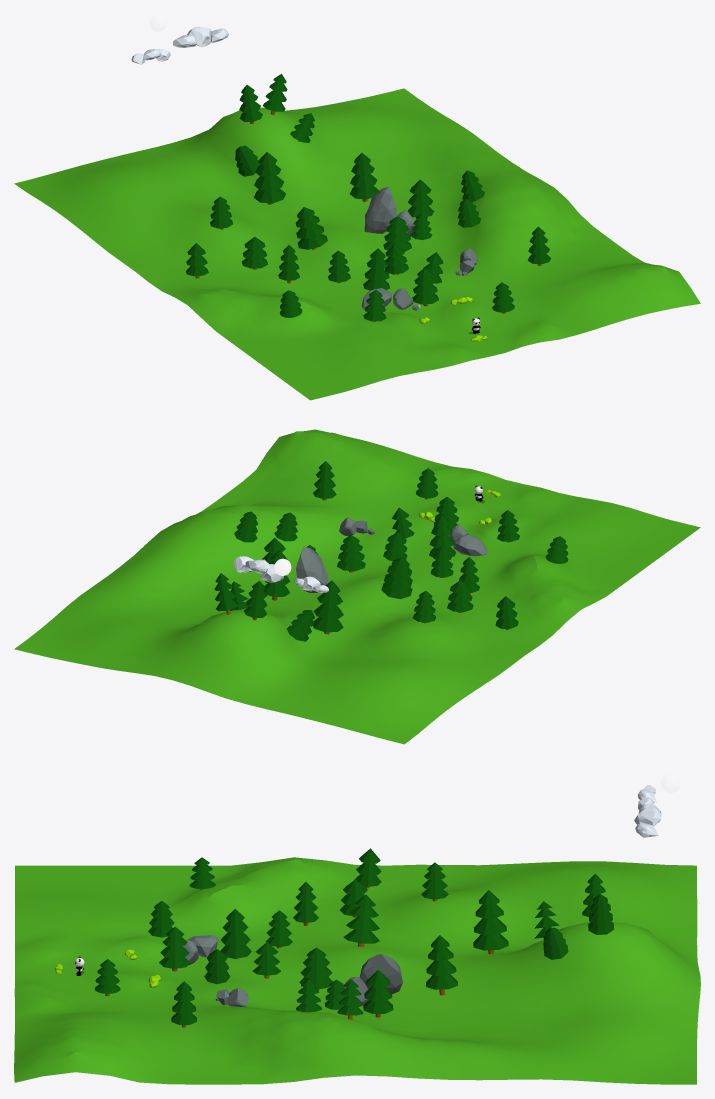
File: mpanda.glb
3 renders of one model, top to bottom at view 1: azimuth 30°, elevation 25°; view 2: azimuth 150°, elevation 25°; view 3: azimuth 270°, elevation 25°, orthographic. The views are drawn at different scales.
Parts seen in each view (by area): view 1: Ground, Cylinder.018, rock1.001, Cylinder.009, Cylinder.024, Bush1.009, Cylinder.004, Cylinder, Cylinder.003, Cylinder.011, Cylinder.006, Cylinder.019 (+2 smaller); view 2: Ground, Cylinder.018, Cylinder.009, rock1.001, Cylinder.003, Bush1.009, Cylinder.004, Cylinder.006, Cylinder.020, Cylinder.019, Cylinder.016, Cylinder.023 (+10 smaller); view 3: Ground, Cylinder.018, Cylinder.024, Cylinder.009, Cylinder.004, Cylinder.011, rock1.001, Cylinder, Cylinder.003, Cylinder.023, Cylinder.020, Cylinder.007 (+13 smaller).
Boxes of the visible parts, x1,y1,x2,y2 form: Ground: (14,88,700,400); Cylinder.018: (253,152,285,204); rock1.001: (364,186,396,233); Cylinder.009: (295,207,327,249); Cylinder.024: (350,153,378,201); Bush1.009: (173,26,228,47); Cylinder.004: (363,248,389,290); Cylinder: (412,268,438,306); Cylinder.003: (383,216,411,251); Cylinder.011: (408,179,433,217); Cylinder.006: (241,237,267,269); Cylinder.019: (239,85,262,123); Ground: (14,429,700,744); Cylinder.018: (313,580,343,634); Cylinder.009: (381,557,412,599); rock1.001: (295,546,328,592); Cylinder.003: (337,535,365,572); Bush1.009: (233,556,283,582); Cylinder.004: (429,515,455,557); Cylinder.006: (447,580,473,612); Cylinder.020: (313,461,336,500); Cylinder.019: (243,581,267,620); Cylinder.016: (286,610,314,641); Cylinder.023: (214,573,238,614); Ground: (14,857,700,1084); Cylinder.018: (473,890,508,954); Cylinder.024: (426,935,457,995); Cylinder.009: (343,894,379,946); Cylinder.004: (220,909,251,959); Cylinder.011: (363,970,393,1017); rock1.001: (359,954,402,994); Cylinder: (159,926,190,971); Cylinder.003: (299,947,332,990); Cylinder.023: (588,894,614,934); Cylinder.020: (171,981,196,1027); Cylinder.007: (293,882,318,925).
Bounding box in the file's own units: 92.8 × 33.12 × 121.
Materials: 13 (2 with a texture image).
